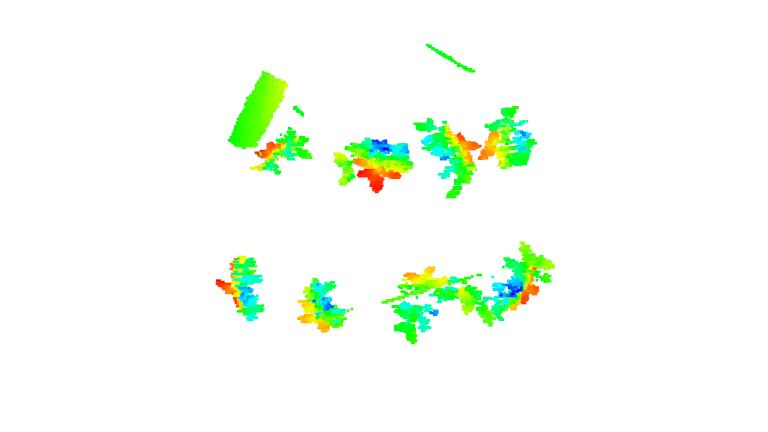chickpea: (467, 239, 557, 327), (388, 265, 478, 346), (412, 115, 482, 199), (335, 135, 415, 194), (477, 104, 538, 174), (215, 255, 267, 324), (250, 128, 313, 178), (298, 277, 354, 333)
